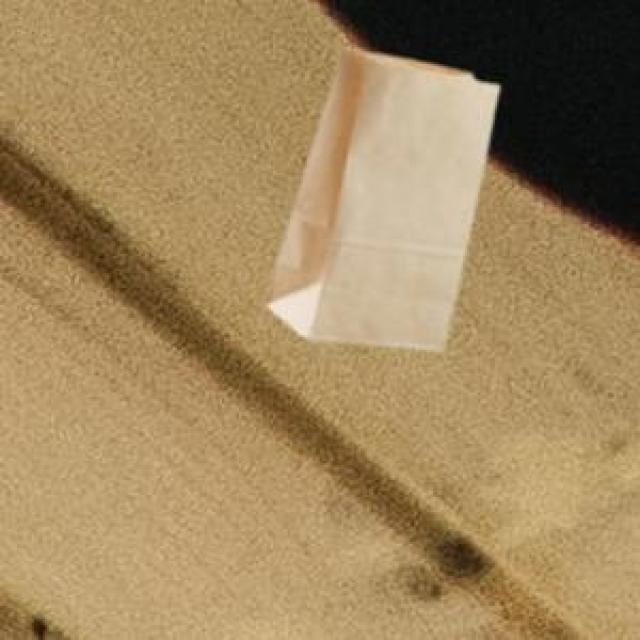paper: (262, 45, 495, 346)
